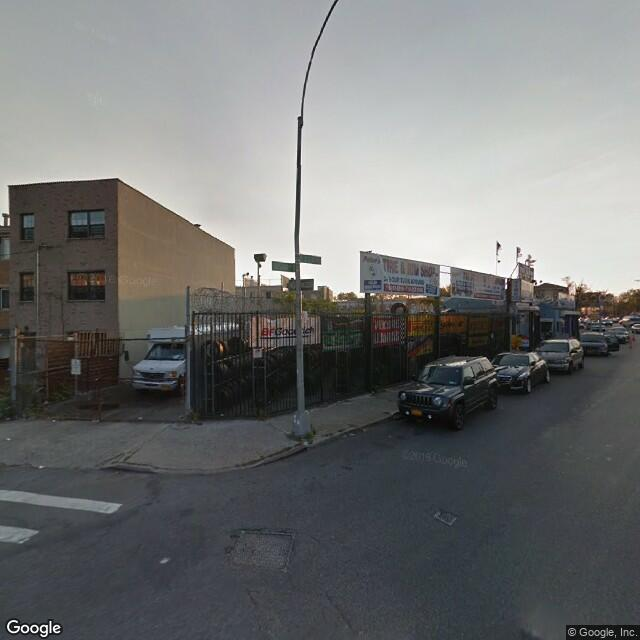litter: (3, 433, 19, 445), (50, 416, 61, 428), (31, 463, 48, 470), (136, 416, 149, 424)
